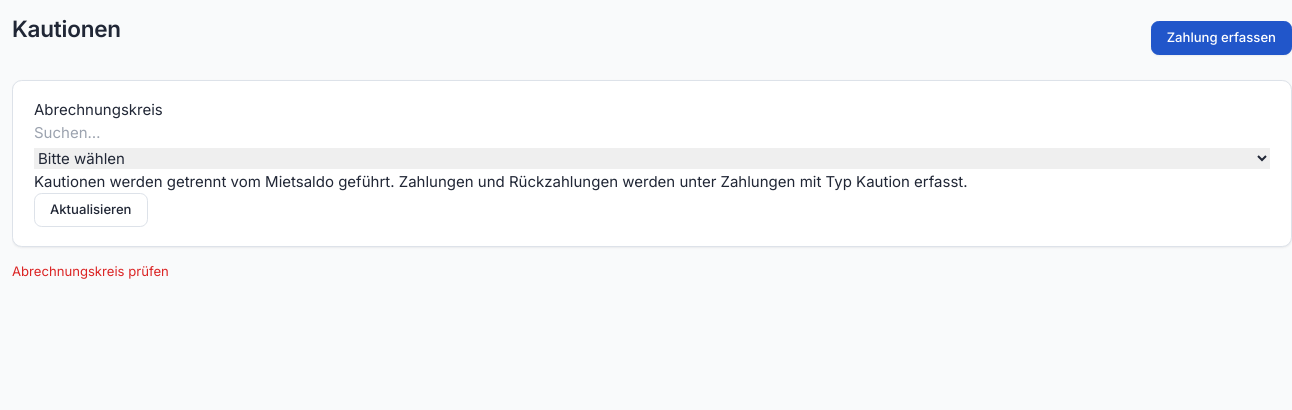
Test: shows 403 rather than a zero or empty report and supports retry
Check: the message reads "Abrechnungskreis prüfen", box [12,262,169,278]
Click the button "Aktualisieren": (91,210) [34,193,148,227]
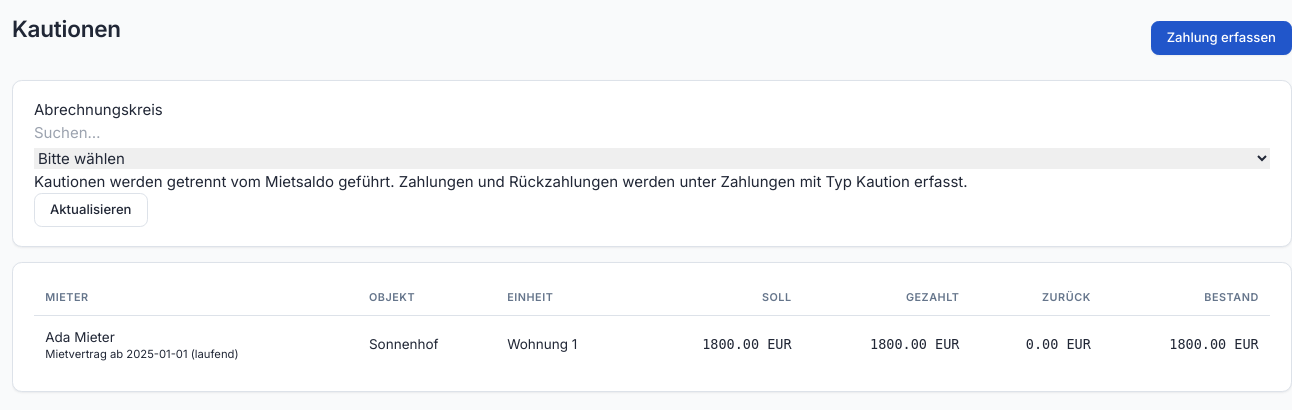
Check: the text "Ada Mieter" is shown, box [45,329,115,345]
Check: the message "Abrechnungskreis prüfen" is gone
